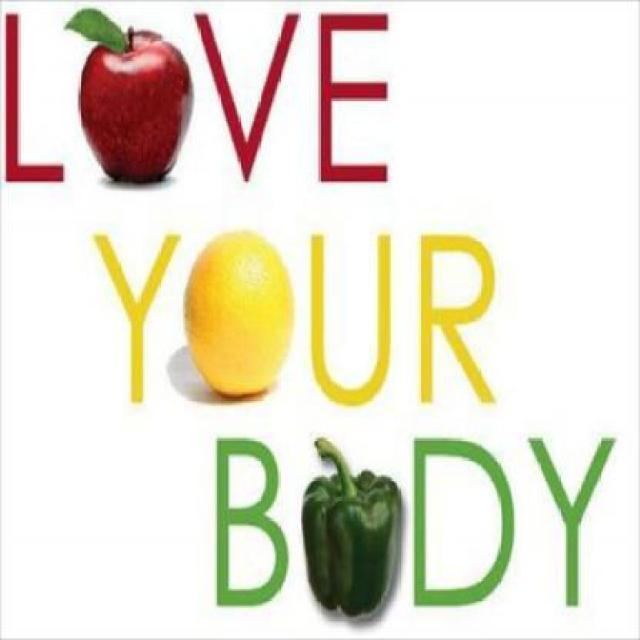Bell Pepper: (300, 436, 405, 624)
